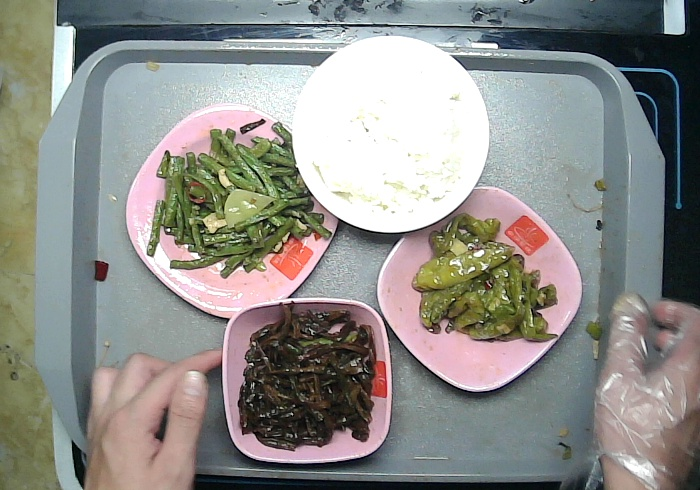SHKJ-Fan_Wan: (290, 32, 491, 234)
SHKJ-Fen_Se_Cai_Die: (374, 183, 583, 393)
SHKJ-Fen_Se_Si_Fang_Cai_Die: (122, 100, 341, 319)
SHKJ-Fen_Se_Xiao_Fang_Die: (219, 294, 394, 465)
